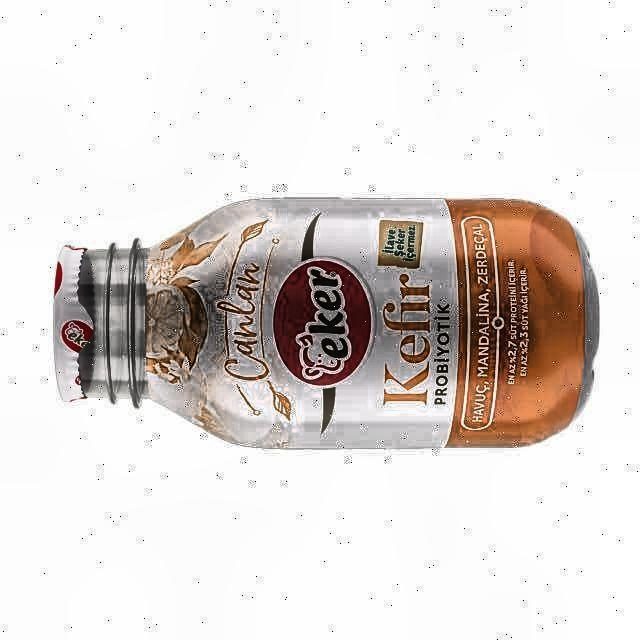plastic: (54, 199, 599, 448)
